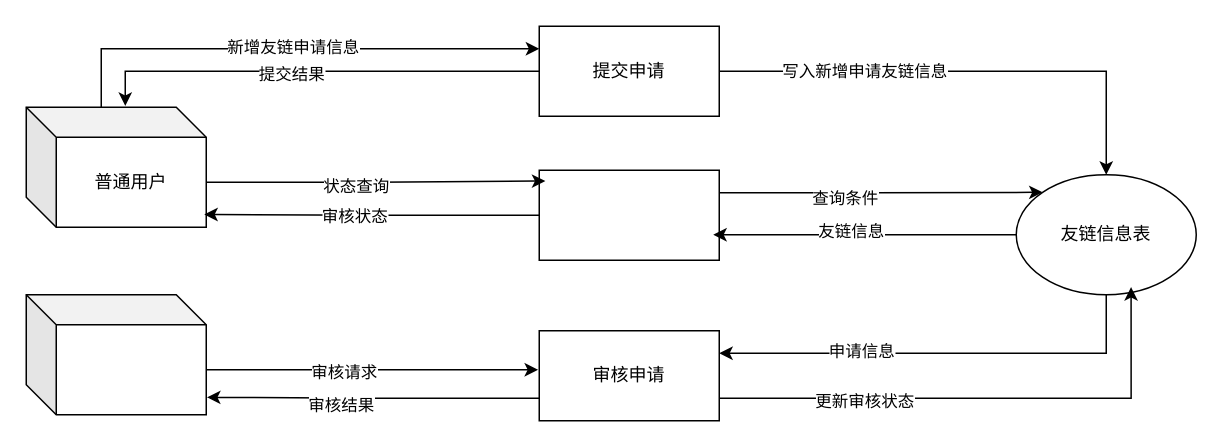
This 1223x447 diagram has some shape labels left out. Each missing label, with the centre of its shape:
查询状态: the point at 628,214
系统管理员: the point at 115,354
